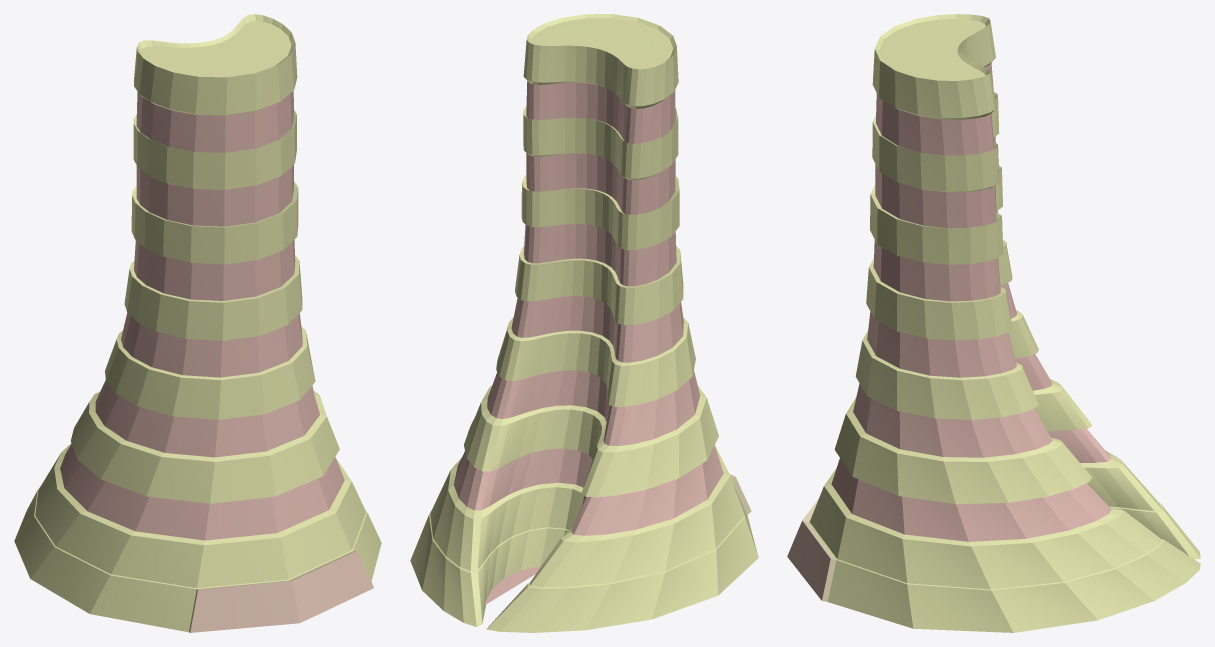
The model's file is Building Background_03.fbx.
3 views of the same model, side by side, from view 1: azimuth 30°, elevation 25°; view 2: azimuth 150°, elevation 25°; view 3: azimuth 270°, elevation 25° (orthographic). The views are drawn at different scales.
Visible parts, largest first — view 1: Building3; view 2: Building3; view 3: Building3.
Boxes of the visible parts, x1,y1,x2,y2 form: Building3: (14,14,381,632); Building3: (410,14,758,632); Building3: (787,14,1200,632).
Size of the model in its own units: 6.88 by 11.17 by 8.13.
